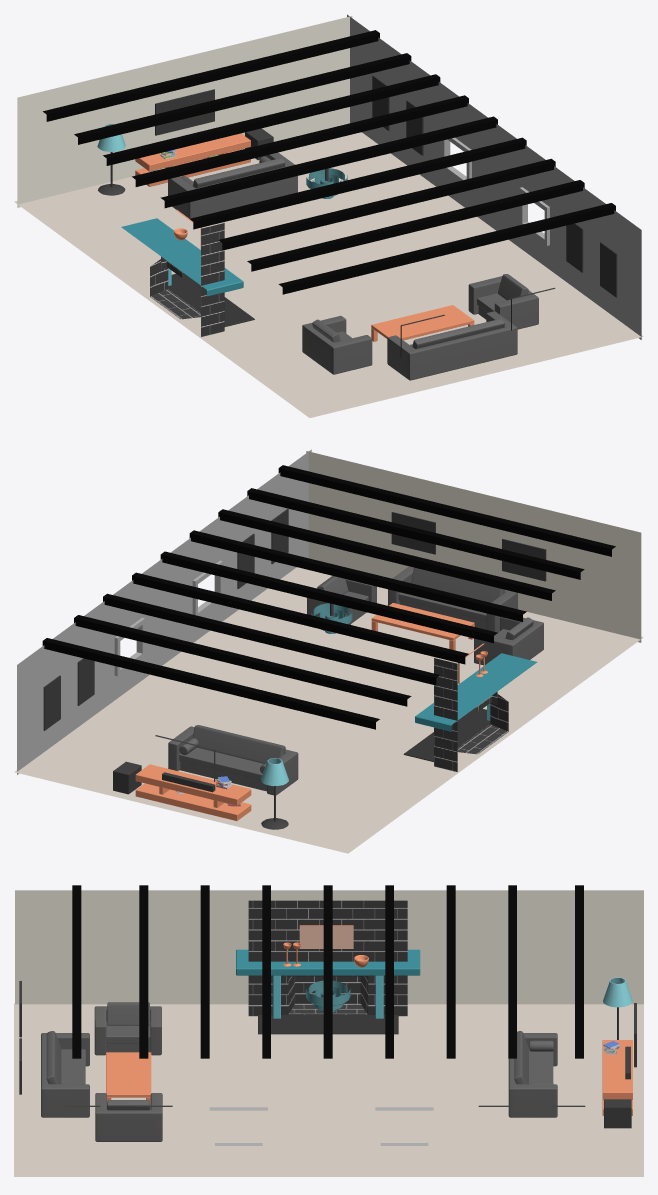
The model's file is livingRoom.gltf.
The picture shows the model from 3 angles, top to bottom: view 1: azimuth 30°, elevation 25°; view 2: azimuth 150°, elevation 25°; view 3: azimuth 270°, elevation 25°; orthographic projection. The views are drawn at different scales.
Parts seen in each view (by area): view 1: floor, wall_N, wall_E, sofa_armRest (×4), beam6, beam2, beam3, beam12, beam13, beam4, beam7, beam10 (+11 smaller); view 2: floor, wall_S, wall_E, sofa_armRest (×4), beam3, beam6, beam7, beam2, beam4, beam12, beam13, beam10 (+17 smaller); view 3: floor, wall_W, firePlace, sofa_armRest (×4), sofa_backRest (×4), firePlace_mantel, sofa_seat (×3), firePlace_hearth, pCube43, beam3, beam6, beam10 (+11 smaller).
Part boxes in pixels (x1,y1,x2,y2): floor: [14, 132, 643, 417]; wall_N: [17, 16, 352, 207]; wall_E: [347, 14, 641, 339]; sofa_armRest (×4): [168, 152, 538, 380]; beam6: [103, 74, 440, 165]; beam2: [190, 137, 526, 229]; beam3: [160, 116, 497, 208]; beam12: [278, 203, 615, 294]; beam13: [43, 30, 379, 121]; beam4: [132, 95, 468, 186]; beam7: [74, 53, 411, 144]; beam10: [218, 158, 555, 250]; floor: [14, 567, 643, 853]; wall_S: [306, 451, 641, 642]; wall_E: [17, 449, 311, 774]; sofa_armRest (×4): [168, 566, 543, 795]; beam3: [160, 551, 497, 643]; beam6: [103, 593, 439, 685]; beam7: [74, 615, 411, 706]; beam2: [189, 530, 526, 621]; beam4: [132, 572, 468, 664]; beam12: [278, 465, 615, 556]; beam13: [42, 638, 379, 729]; beam10: [218, 509, 555, 600]; floor: [14, 1003, 643, 1176]; wall_W: [15, 890, 643, 1004]; firePlace: [248, 900, 407, 1016]; sofa_armRest (×4): [41, 1006, 557, 1141]; sofa_backRest (×4): [46, 1002, 528, 1110]; firePlace_mantel: [236, 949, 420, 975]; sofa_seat (×3): [61, 1021, 553, 1084]; firePlace_hearth: [258, 1015, 398, 1034]; pCube43: [106, 1052, 151, 1097]; beam3: [323, 885, 332, 1058]; beam6: [446, 885, 455, 1058]; beam10: [200, 885, 209, 1058].
Bounding box in the file's own units: 8.05 × 2.62 × 12.3.
4 materials, 4 textured.
